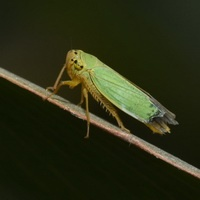insect: (47, 50, 177, 137)
